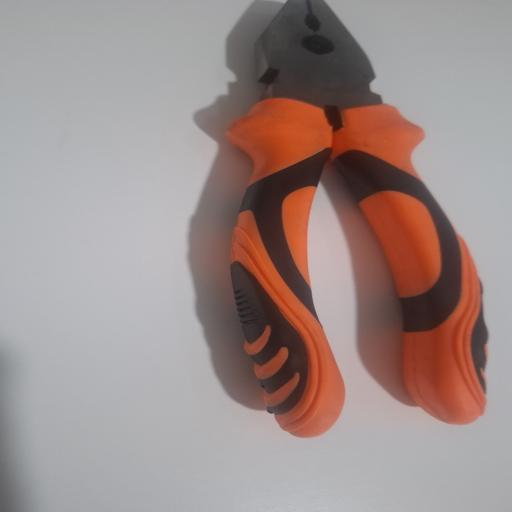alicate: (222, 0, 490, 438)
